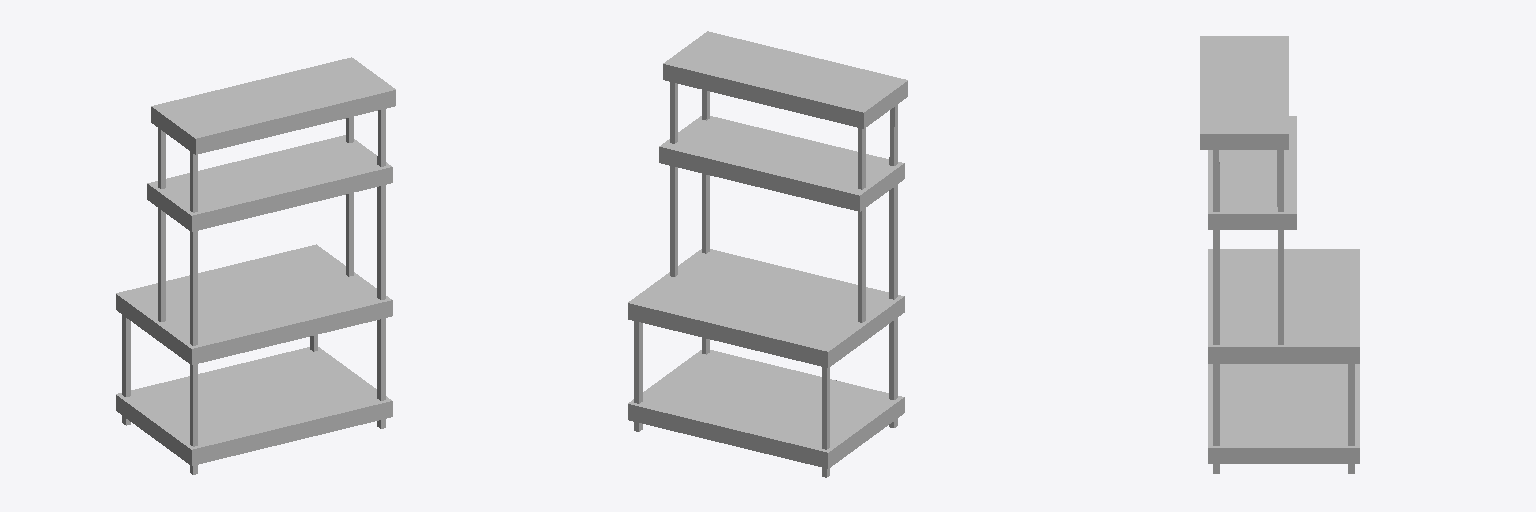
Rendered from TallShelf.obj.
The picture shows the model from 3 angles: view 1: azimuth 30°, elevation 25°; view 2: azimuth 150°, elevation 25°; view 3: azimuth 270°, elevation 25°; orthographic projection.
Parts seen in each view (by area): view 1: TallShelf; view 2: TallShelf; view 3: TallShelf.
Boxes of the visible parts, <box> form: TallShelf: <box>116,57,395,474</box>; TallShelf: <box>628,31,907,477</box>; TallShelf: <box>1200,36,1359,473</box>.
Size of the model in its own units: 89.88 by 146 by 61.96.